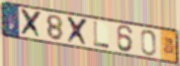0: (140, 29, 158, 57)
6: (116, 24, 134, 54)
8: (45, 14, 65, 41)
L: (92, 20, 111, 49)
X: (19, 7, 43, 41), (66, 15, 90, 48)
